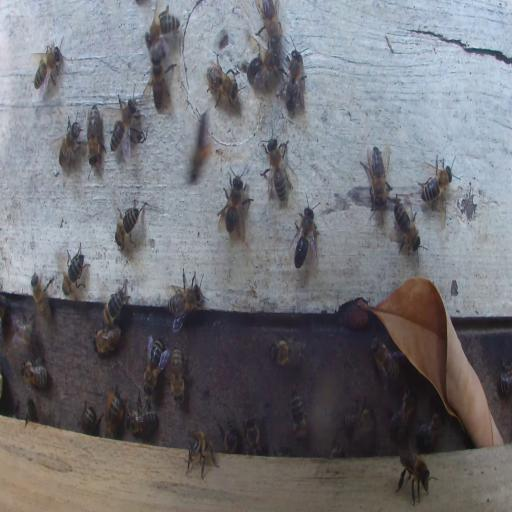nonpollenbee: (109, 87, 148, 163), (216, 165, 254, 239), (166, 264, 206, 329), (278, 40, 308, 114), (291, 195, 320, 271), (418, 152, 454, 212), (31, 40, 67, 97), (362, 142, 391, 212), (397, 451, 433, 505), (261, 135, 289, 203), (392, 194, 422, 255), (204, 57, 238, 109), (185, 427, 218, 479), (372, 338, 401, 389), (113, 203, 145, 249), (148, 49, 172, 110), (268, 331, 306, 369), (63, 242, 89, 296), (389, 385, 416, 436), (58, 116, 82, 173), (342, 400, 376, 440), (101, 282, 130, 328), (126, 396, 157, 438), (247, 50, 279, 90), (145, 7, 179, 44), (143, 336, 164, 394), (30, 270, 53, 321), (255, 0, 281, 44), (86, 102, 102, 170), (288, 391, 308, 444), (416, 411, 443, 449), (20, 359, 48, 389), (12, 312, 36, 346), (93, 324, 121, 353), (170, 347, 184, 403), (244, 415, 262, 455), (218, 420, 238, 454), (80, 402, 97, 432), (500, 359, 512, 398), (26, 398, 38, 424)
pollenbee: (188, 106, 214, 186), (104, 390, 124, 437)
